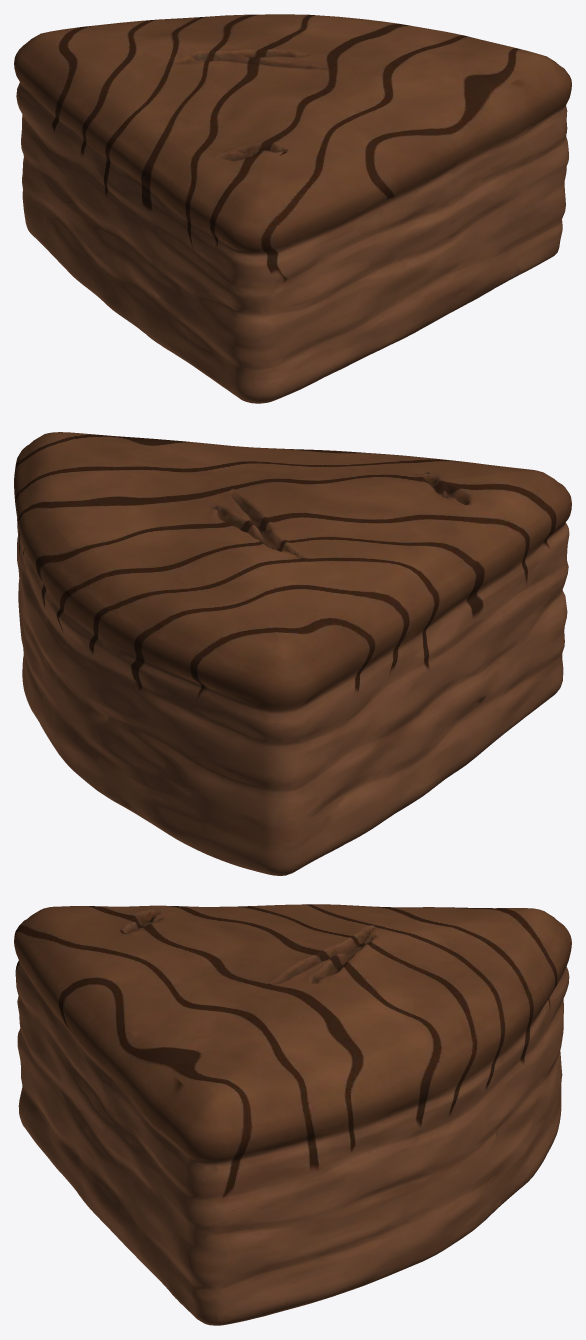
The model's file is scone--choco-cocoa.glb.
The picture shows the model from 3 angles, top to bottom: view 1: azimuth 30°, elevation 25°; view 2: azimuth 150°, elevation 25°; view 3: azimuth 270°, elevation 25°; orthographic projection. The views are drawn at different scales.
Parts seen in each view (by area): view 1: scone_choco-cocoa; view 2: scone_choco-cocoa; view 3: scone_choco-cocoa.
Boxes of the visible parts, <box> form: scone_choco-cocoa: <box>14,14,571,403</box>; scone_choco-cocoa: <box>14,432,571,875</box>; scone_choco-cocoa: <box>14,904,571,1325</box>.
Size of the model in its own units: 0.9364 by 0.4693 by 0.9806.
1 material, 1 textured.
